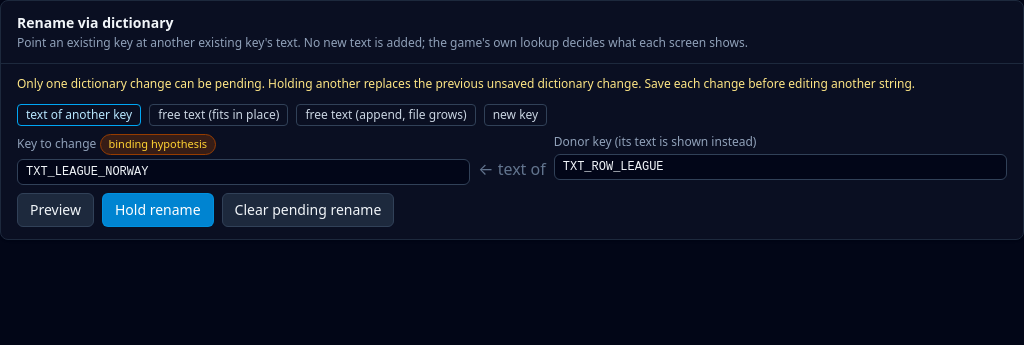
Scenario: DictionaryRenamePanel growth (LOC-W3) › shows a class-B refusal as the server states it
The image size is (1024, 345).
Step 1. Click the button with test id "mode-insert" → point(516, 115), box [484,104,547,126]
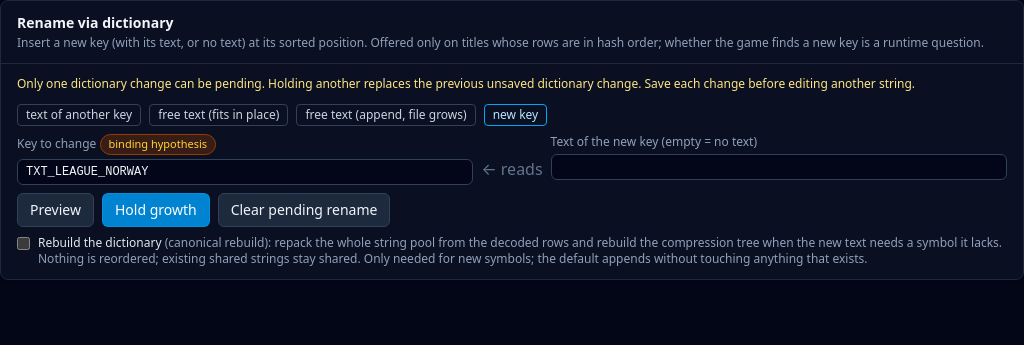
Step 2. Type "X" into the field named "new text" → point(779, 167), box [551,154,1007,180]
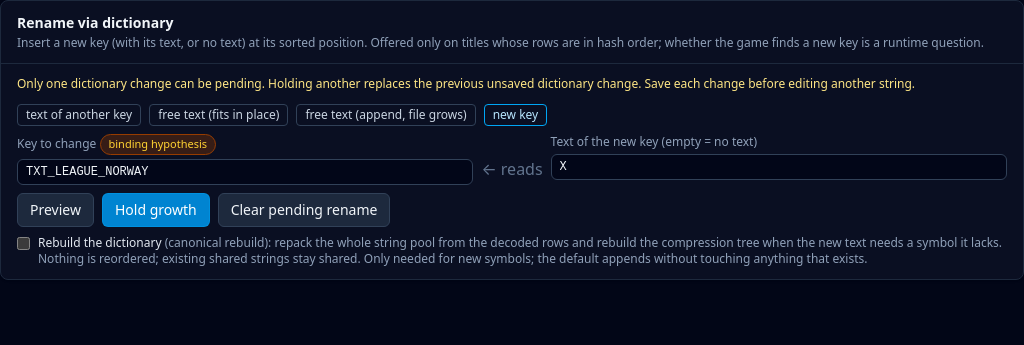
Step 3. Click the button "Preview" → point(55, 210), box [17,193,94,227]
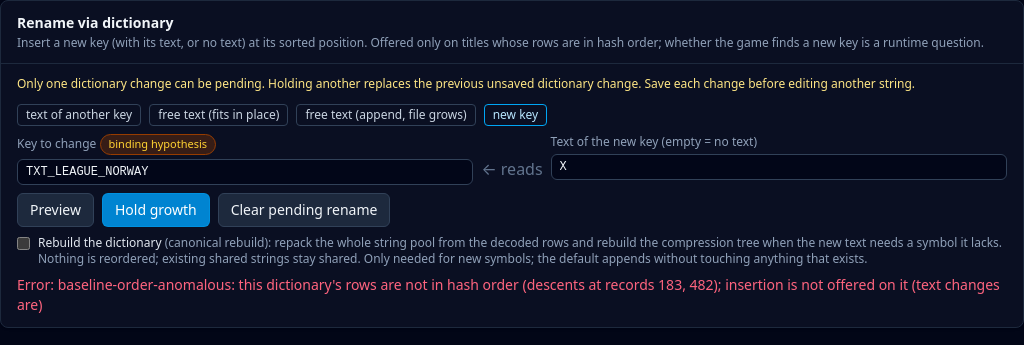
Check: the text "baseline-order-anomalous" is shown, box [17,275,1000,314]
